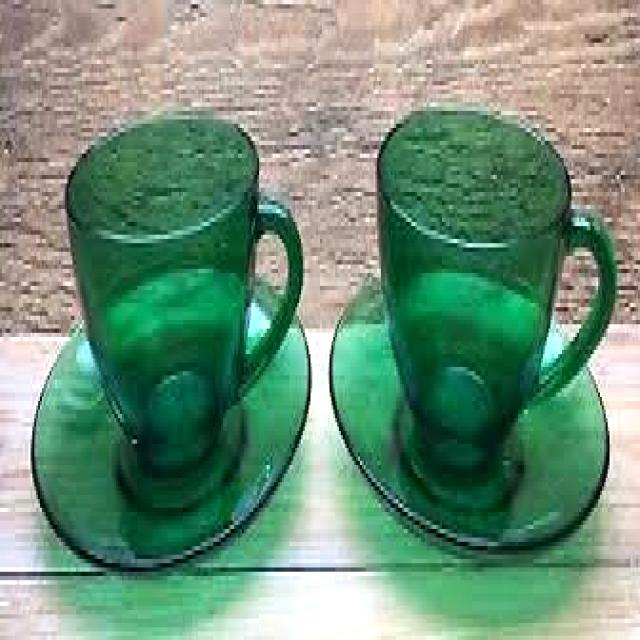Glass: (62, 104, 306, 464), (372, 104, 616, 444), (330, 273, 611, 555), (30, 306, 315, 568)
